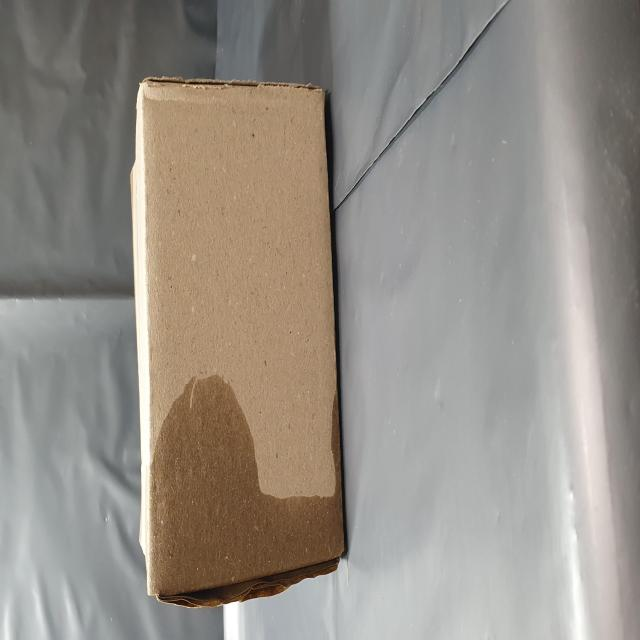wet: (25, 254, 153, 619)
